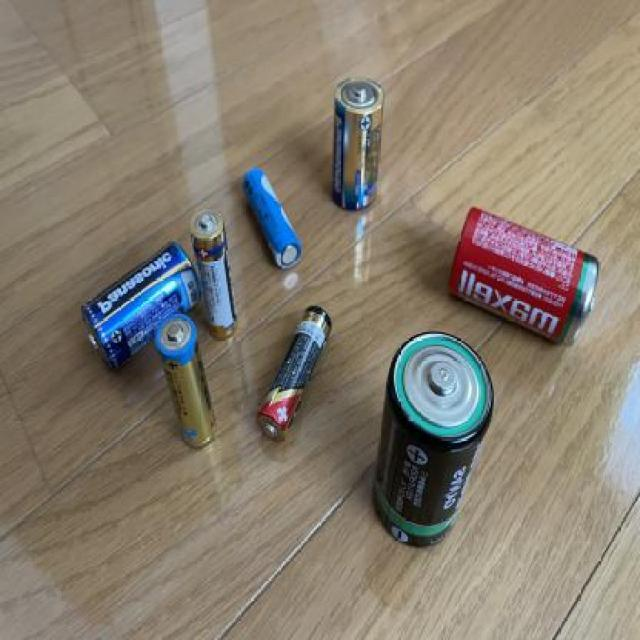hazardous waste: (371, 329, 498, 551), (448, 203, 604, 352), (78, 240, 204, 371), (257, 306, 334, 445), (326, 74, 388, 218), (157, 314, 220, 452), (186, 205, 239, 343), (240, 164, 303, 270)
